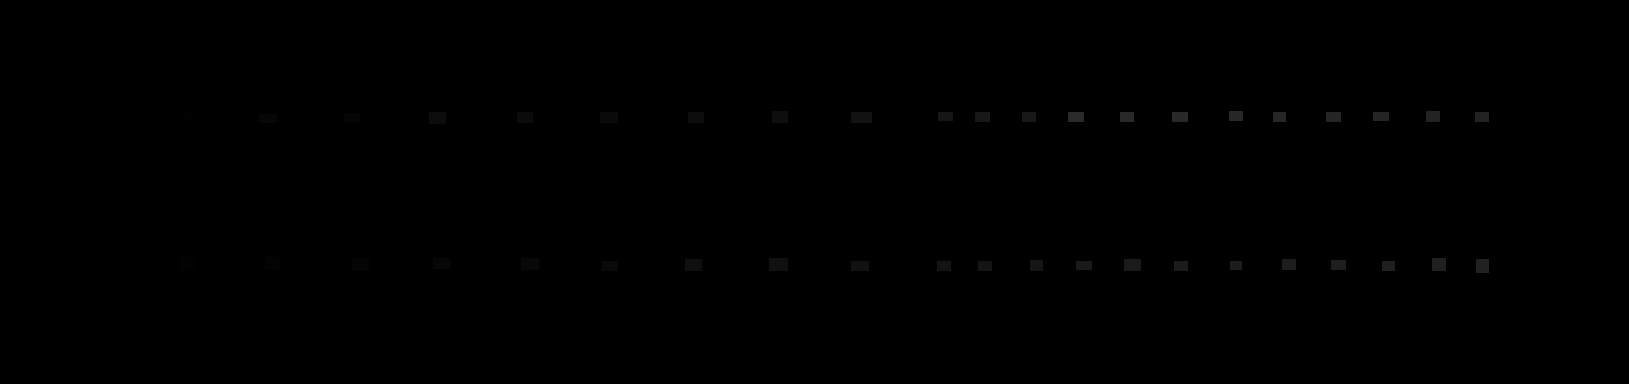light: (851, 112, 872, 124), (769, 258, 787, 271), (520, 258, 539, 270), (178, 257, 194, 270), (352, 258, 369, 271), (600, 112, 618, 124), (685, 259, 702, 271), (265, 257, 281, 270), (772, 111, 787, 124), (429, 112, 446, 124), (688, 112, 704, 124), (1124, 259, 1141, 271), (851, 260, 869, 271), (1432, 258, 1446, 271), (517, 112, 533, 124), (259, 114, 277, 124), (344, 113, 360, 124), (433, 258, 450, 269), (602, 260, 618, 271), (1172, 112, 1189, 122), (1476, 259, 1489, 273), (974, 112, 990, 122), (1326, 112, 1341, 122), (1068, 112, 1084, 122), (1426, 111, 1440, 122), (978, 260, 992, 271), (1174, 260, 1189, 271), (1120, 112, 1134, 122), (177, 114, 192, 124), (1076, 260, 1092, 270), (1331, 260, 1346, 270), (1373, 112, 1389, 121), (937, 260, 951, 271), (1030, 260, 1043, 271), (1022, 112, 1036, 122), (1282, 259, 1296, 270), (1382, 260, 1395, 271), (1475, 112, 1489, 122), (1273, 112, 1286, 122), (1229, 111, 1243, 121), (938, 112, 953, 121), (1230, 260, 1241, 270)
